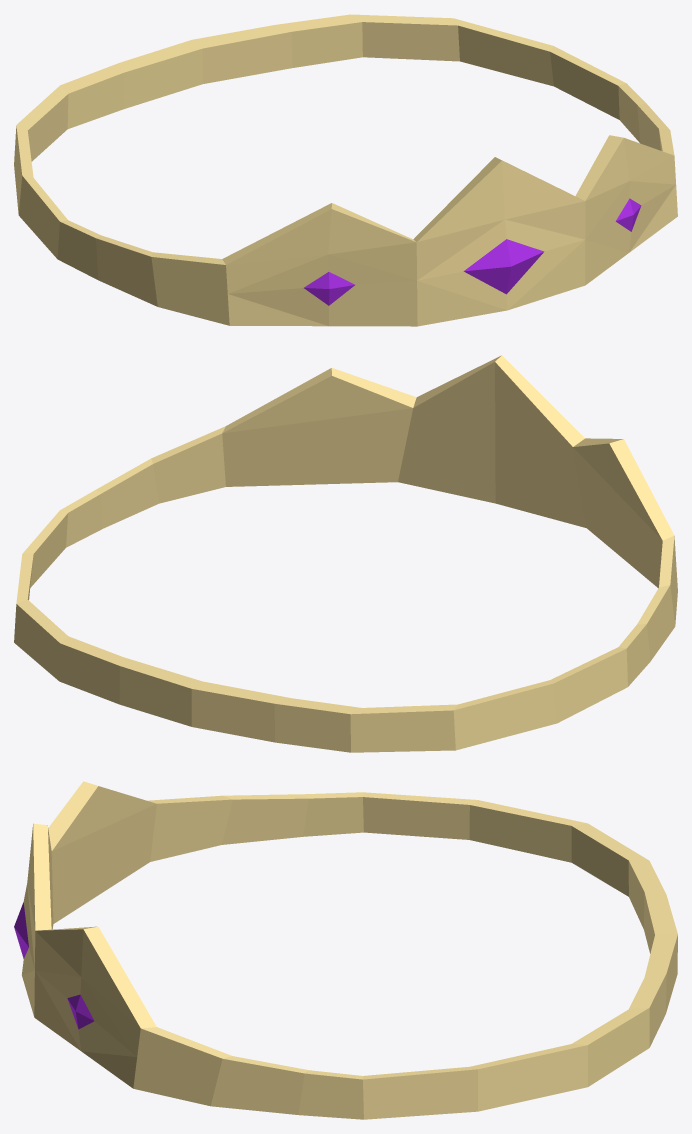
The model's file is crown.glb.
3 renders of one model, top to bottom at view 1: azimuth 30°, elevation 25°; view 2: azimuth 150°, elevation 25°; view 3: azimuth 270°, elevation 25°, orthographic. The views are drawn at different scales.
Visible parts, largest first — view 1: Crown; view 2: Crown; view 3: Crown.
Boxes of the visible parts, x1=… form: Crown: x1=14, y1=14, x2=677, y2=326; Crown: x1=14, y1=355, x2=677, y2=752; Crown: x1=14, y1=781, x2=677, y2=1119.
Bounding box in the file's own units: 1.03 × 0.2513 × 0.9982.
Materials: 1 (1 with a texture image).
